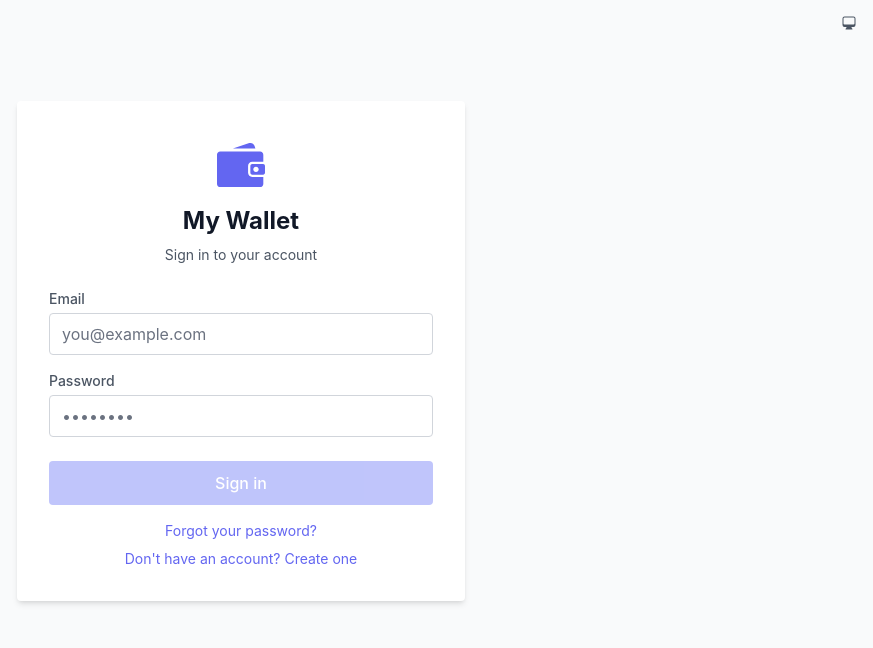
Test case: Login › shows error message on failed sign-in
This screenshot has width=873, height=648.
Type "test@example.com" into the field labelled "Email" at (241, 334), box [49, 313, 433, 355]
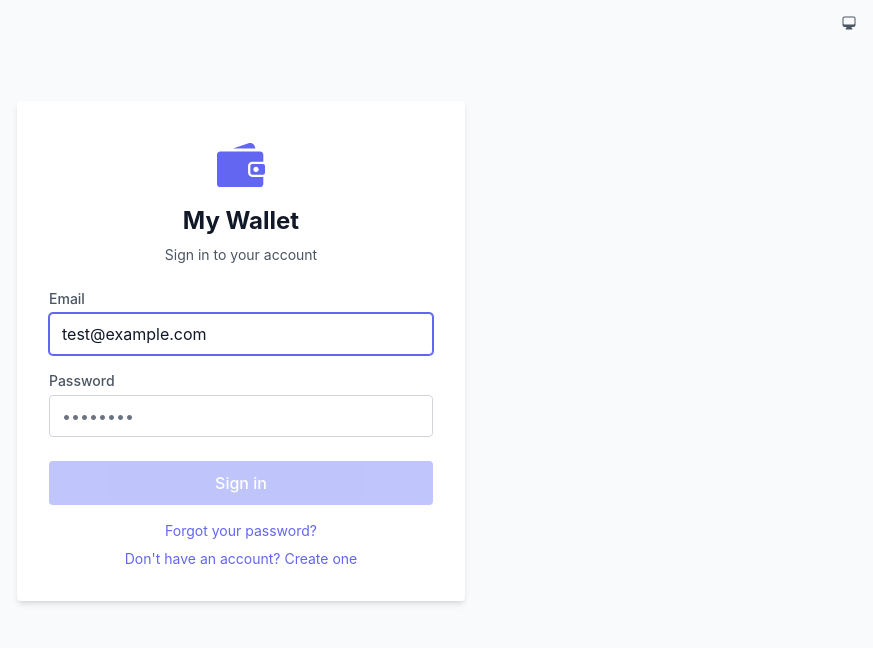
Type "wrong" into the password field labelled "Password" at (241, 416), box [49, 395, 433, 437]
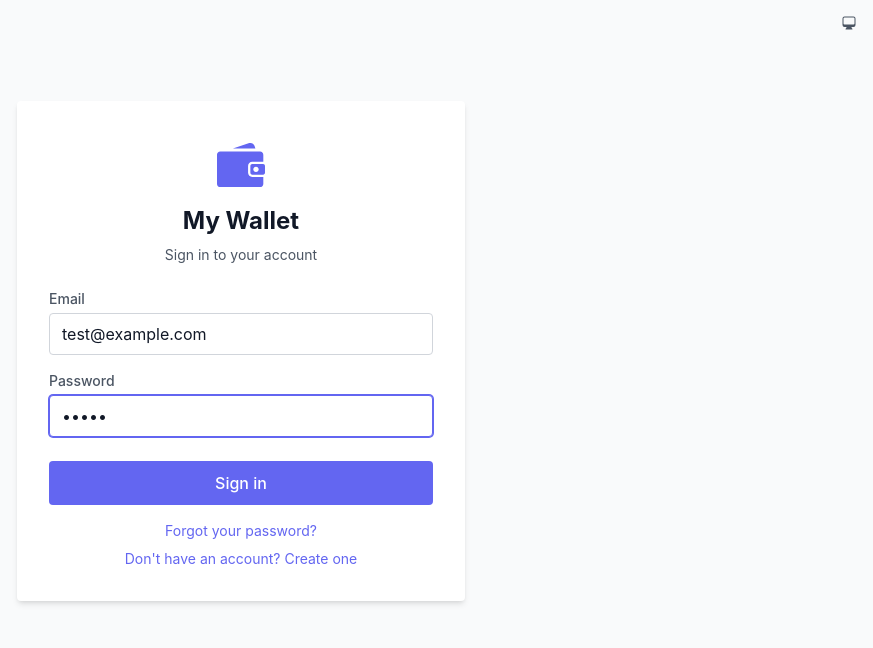
Click the button "Sign in" at (241, 483), box [49, 461, 433, 505]
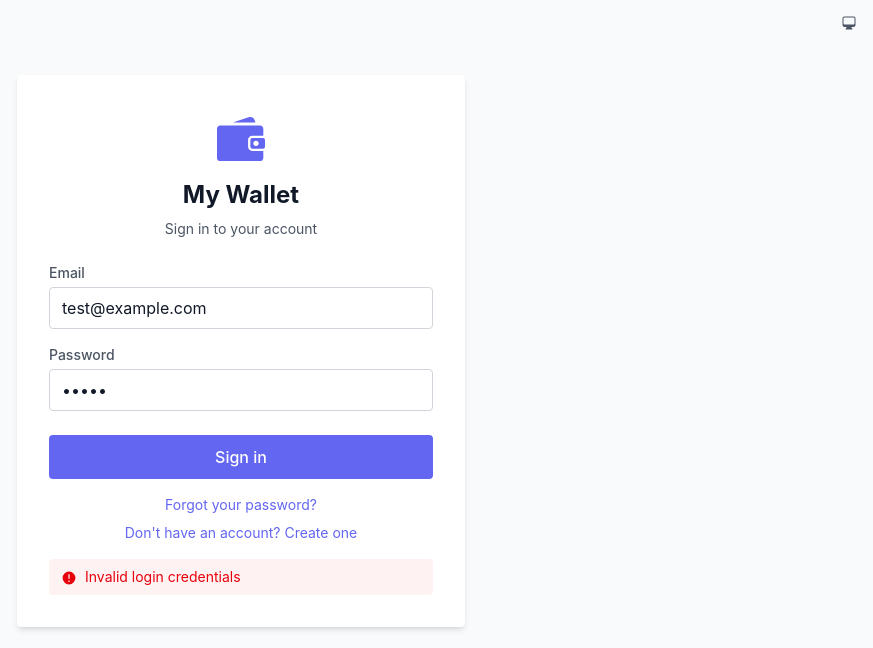
Result: the text "Invalid login credentials" is shown at [49, 559, 433, 595]
